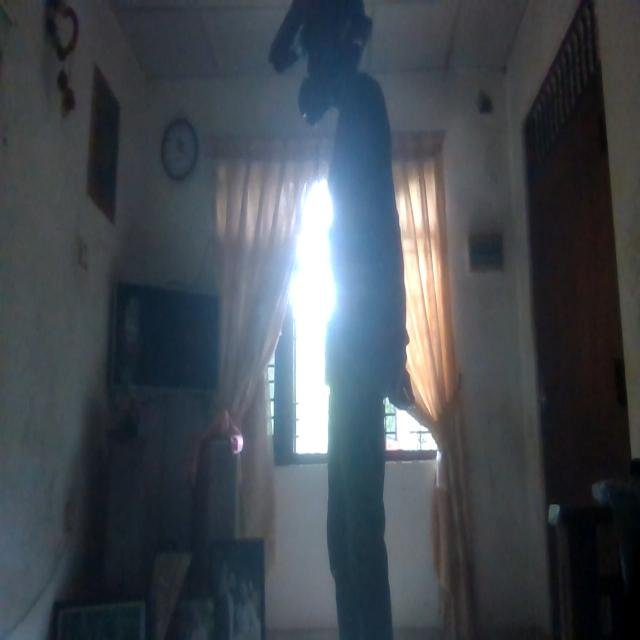Helmet_Wearer: (278, 0, 382, 111)
Person: (278, 0, 412, 640)
